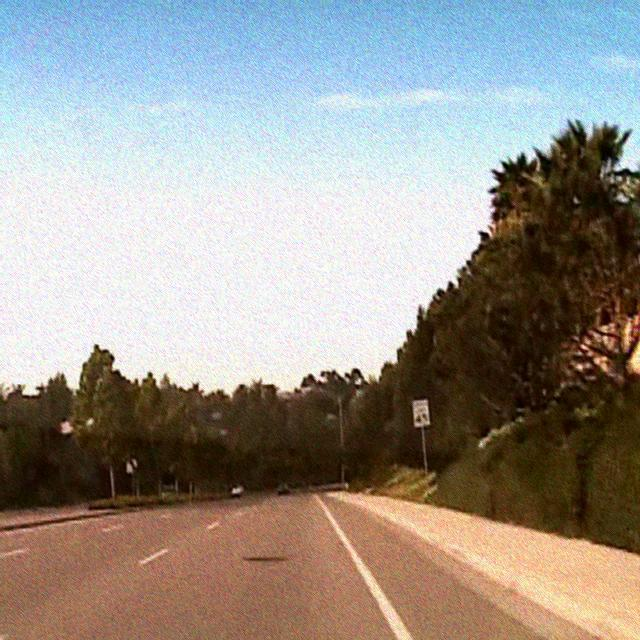speedLimit45: (412, 397, 429, 427)
